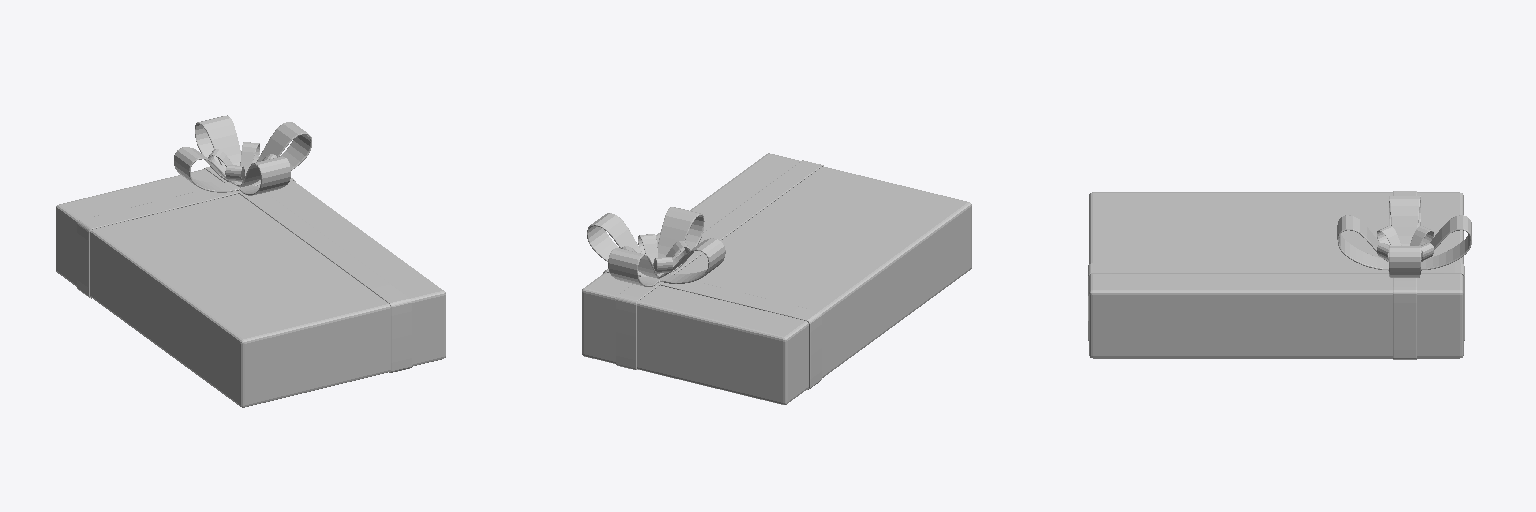
Rendered from gift_3.obj.
3 views of the same model, side by side, from view 1: azimuth 30°, elevation 25°; view 2: azimuth 150°, elevation 25°; view 3: azimuth 270°, elevation 25° (orthographic).
Visible parts, largest first — view 1: Gift_4; view 2: Gift_4; view 3: Gift_4.
Part boxes in pixels (bbox=[...]): Gift_4: bbox=[56, 115, 445, 407]; Gift_4: bbox=[582, 153, 971, 404]; Gift_4: bbox=[1088, 191, 1471, 359].
Bounding box in the file's own units: 2 × 1 × 3.